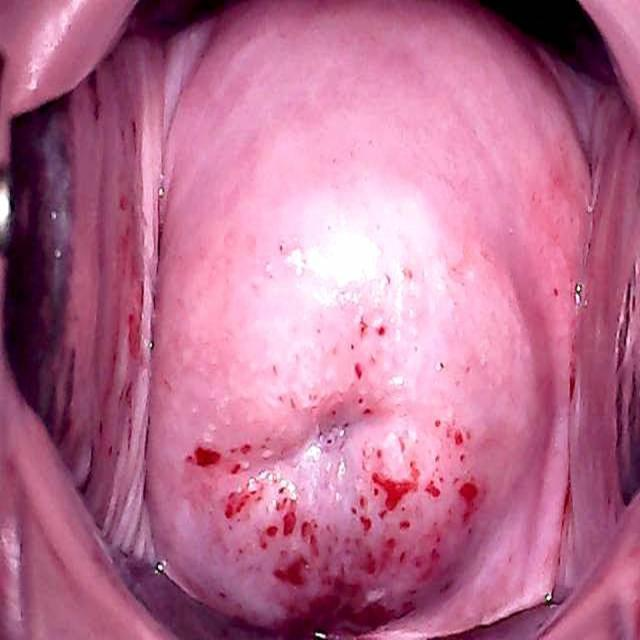cervical_lesion: (147, 135, 547, 640)
